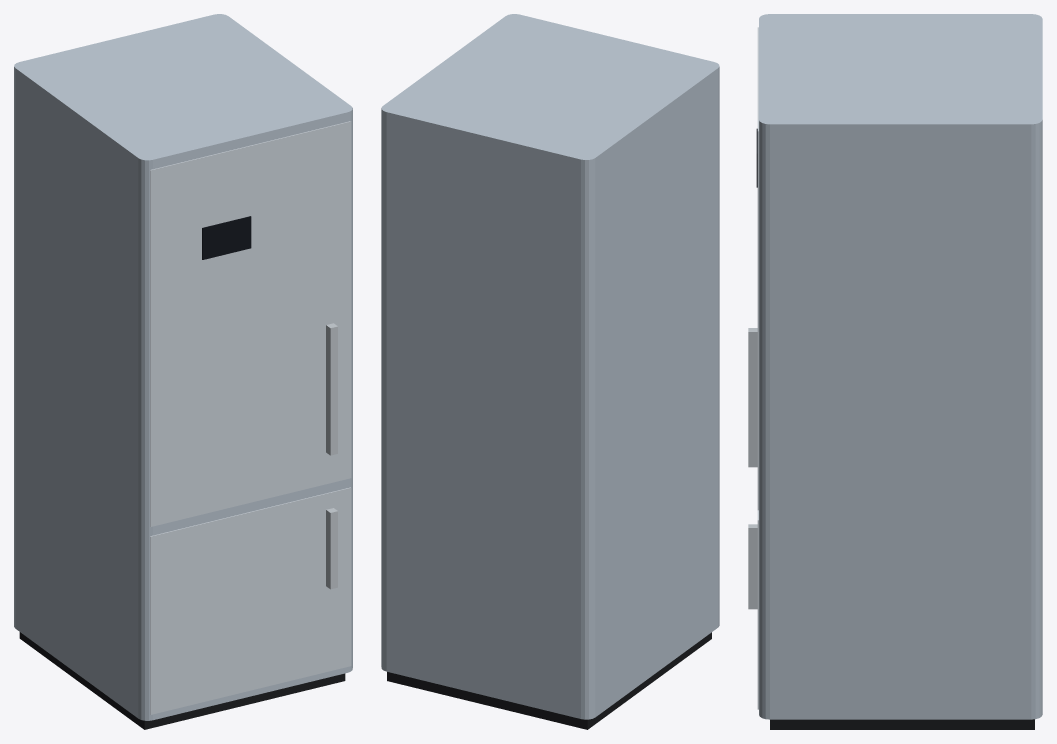
File: fridge.glb
3 renders of one model, left to right at view 1: azimuth 30°, elevation 25°; view 2: azimuth 150°, elevation 25°; view 3: azimuth 270°, elevation 25°, orthographic. The views are drawn at different scales.
Visible parts, largest first — view 1: fridge_Body; view 2: fridge_Body; view 3: fridge_Body.
Part boxes in pixels (x1,y1,x2,y2): fridge_Body: [14, 14, 352, 729]; fridge_Body: [381, 14, 719, 729]; fridge_Body: [748, 14, 1042, 729].
Bounding box in the file's own units: 0.7 × 1.8 × 0.788.
